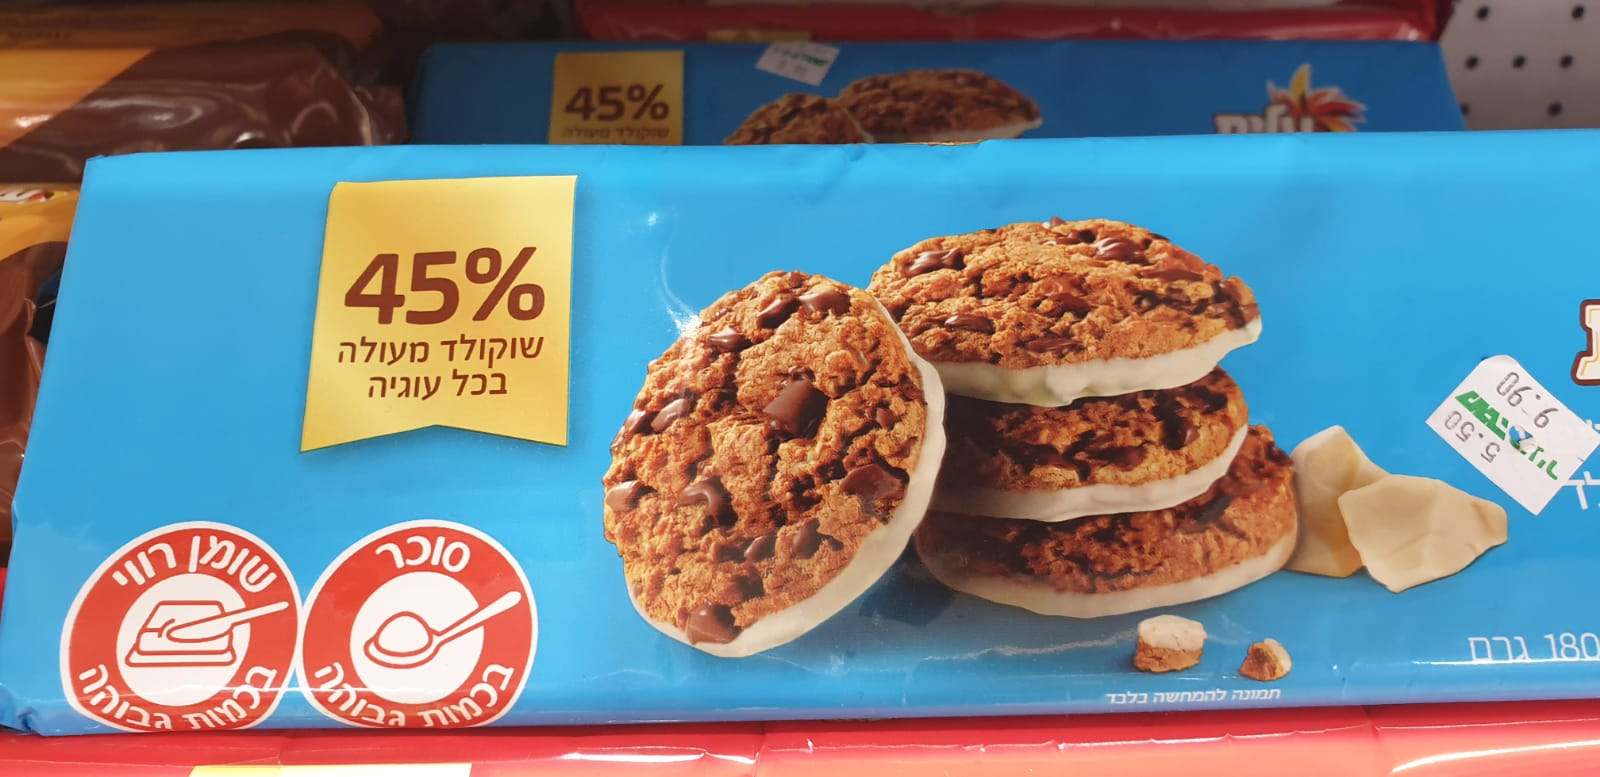fat: (57, 521, 298, 734)
sugar: (296, 516, 538, 733)
